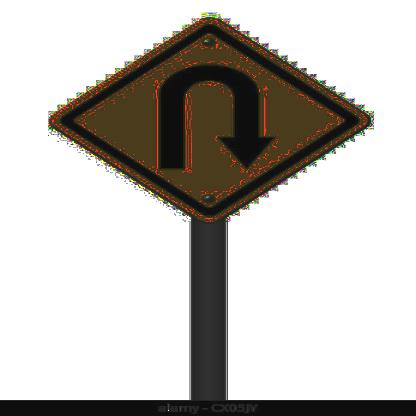U-turn: (53, 12, 368, 221)
